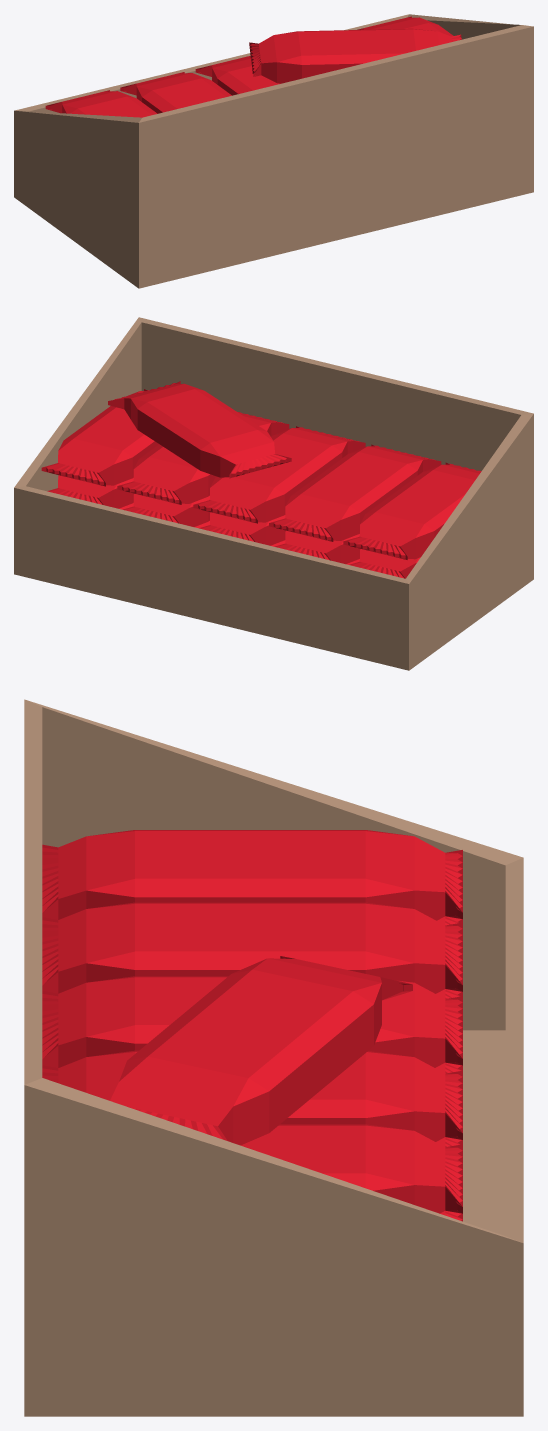
File: BoxRedBars.fbx
3 views of the same model, one above another, from view 1: azimuth 30°, elevation 25°; view 2: azimuth 150°, elevation 25°; view 3: azimuth 270°, elevation 25° (orthographic). The views are drawn at different scales.
Visible parts, largest first — view 1: Cube.002, Cube.022, Cube.014, Cube.016, Cube.015, Cube.012; view 2: Cube.002, Cube.022, Cube.014, Cube.015, Cube.016, Cube.012, Cube.013, Cube.010, Cube.011, Cube.008, Cube.009, Cube.007; view 3: Cube.002, Cube.022, Cube.016, Cube.014, Cube.015, Cube.013, Cube.012.
Boxes of the visible parts, bbox=[...] form: Cube.002: bbox=[14, 14, 533, 288]; Cube.022: bbox=[249, 28, 461, 83]; Cube.014: bbox=[120, 72, 231, 113]; Cube.016: bbox=[45, 90, 157, 117]; Cube.015: bbox=[195, 56, 280, 95]; Cube.012: bbox=[357, 16, 453, 36]; Cube.002: bbox=[14, 317, 533, 670]; Cube.022: bbox=[108, 381, 291, 478]; Cube.014: bbox=[269, 444, 441, 541]; Cube.015: bbox=[193, 426, 365, 523]; Cube.016: bbox=[343, 462, 481, 559]; Cube.012: bbox=[41, 389, 158, 486]; Cube.013: bbox=[117, 412, 289, 504]; Cube.010: bbox=[123, 493, 210, 526]; Cube.011: bbox=[47, 475, 133, 508]; Cube.008: bbox=[199, 512, 285, 545]; Cube.009: bbox=[274, 530, 359, 564]; Cube.007: bbox=[349, 549, 420, 578]; Cube.002: bbox=[24, 699, 523, 1416]; Cube.022: bbox=[110, 956, 412, 1145]; Cube.016: bbox=[42, 830, 462, 920]; Cube.014: bbox=[42, 902, 462, 993]; Cube.015: bbox=[42, 976, 462, 1067]; Cube.013: bbox=[42, 1050, 462, 1141]; Cube.012: bbox=[241, 1124, 462, 1213].
Size of the model in its own units: 939 by 377 by 514.
